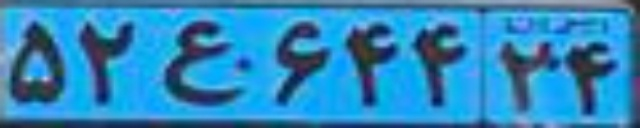2: (79, 19, 138, 105), (496, 40, 554, 115)
4: (413, 21, 474, 107), (344, 21, 399, 106), (562, 41, 620, 115)
5: (8, 18, 68, 103)
6: (271, 20, 329, 104)
ain: (157, 20, 244, 106)
